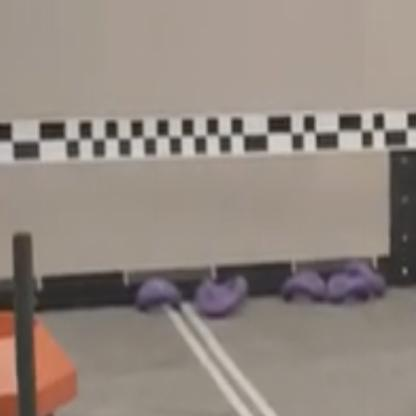ring: (195, 275, 248, 316), (134, 274, 180, 311), (281, 267, 325, 304), (345, 258, 386, 296), (326, 271, 368, 302)
